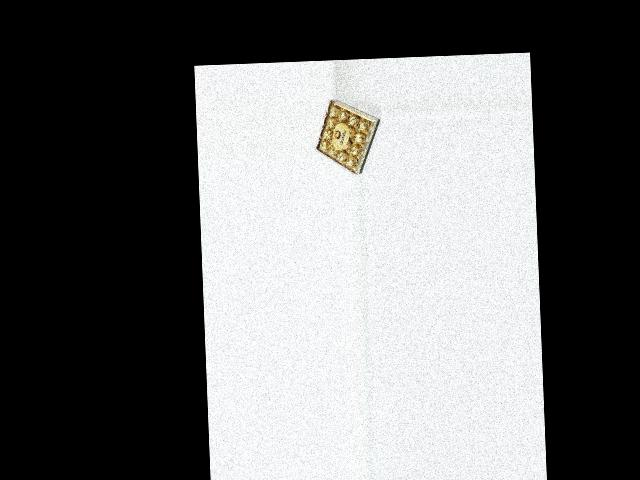chocolate: (312, 96, 383, 177)
